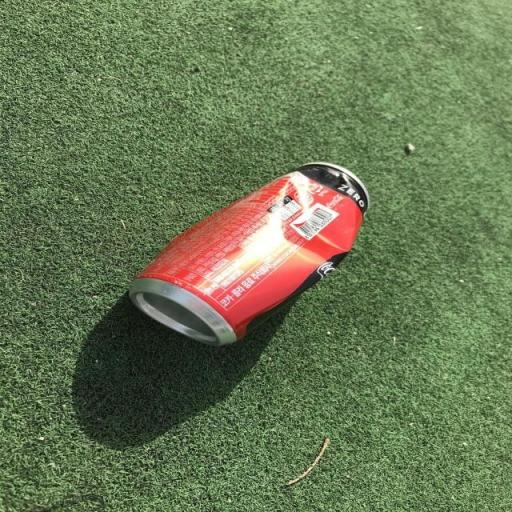metal: (100, 140, 388, 351)
